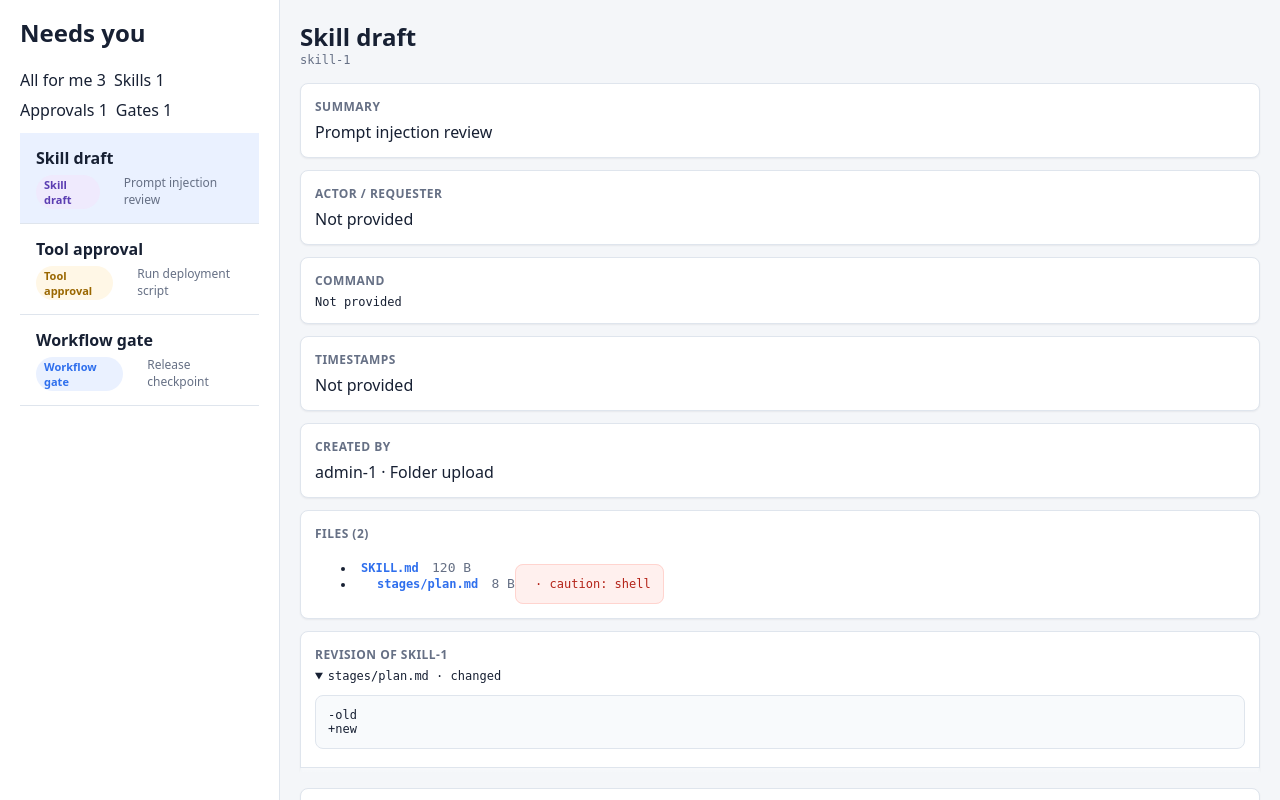
Test case: shows a folder draft's file tree, file viewer, per-file diffs, and created-by
Expected: the text "admin-1 · Folder upload" is shown, [315,461,494,483]
Expected: the text "· caution: shell" is shown, [515,564,664,604]
Click the button with aria-label "Open stages/plan.md" at (428, 584), box [371,576,484,592]
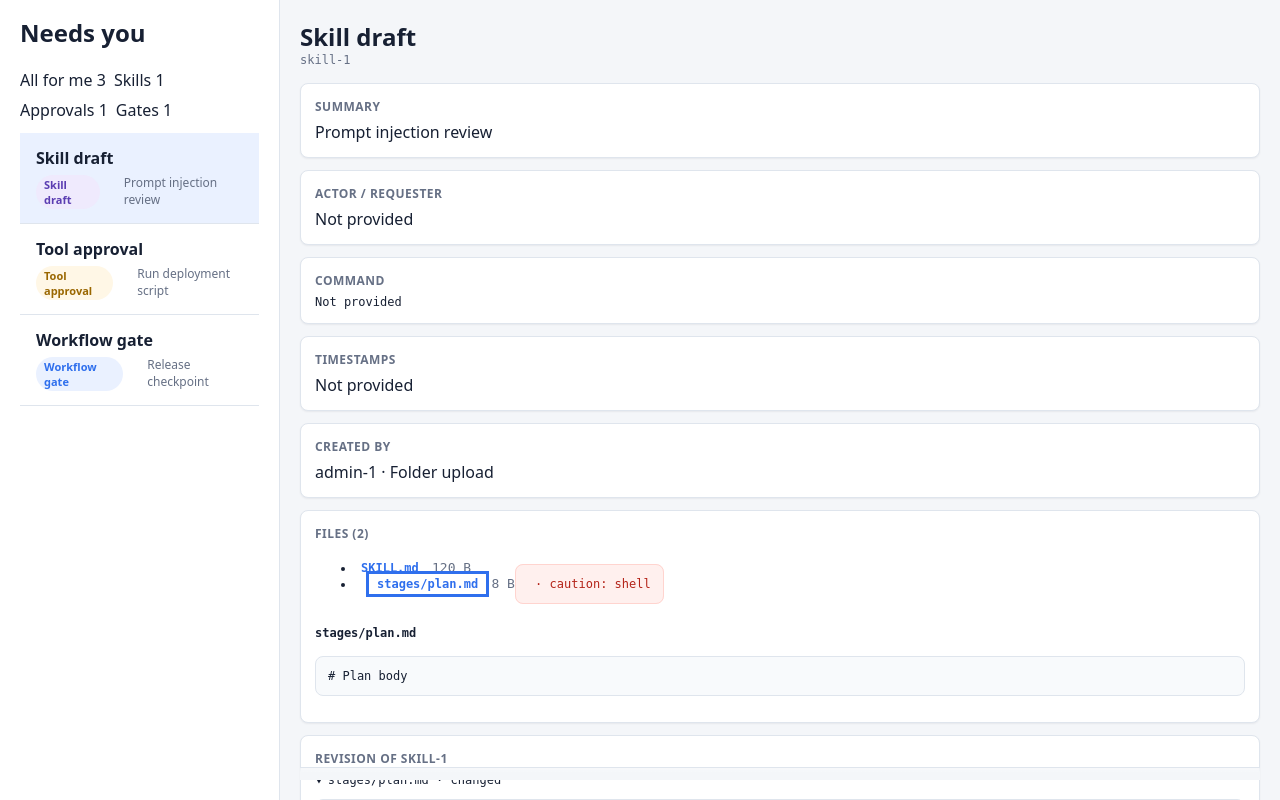
Result: the text "# Plan body" is shown at [315,656,1245,696]
